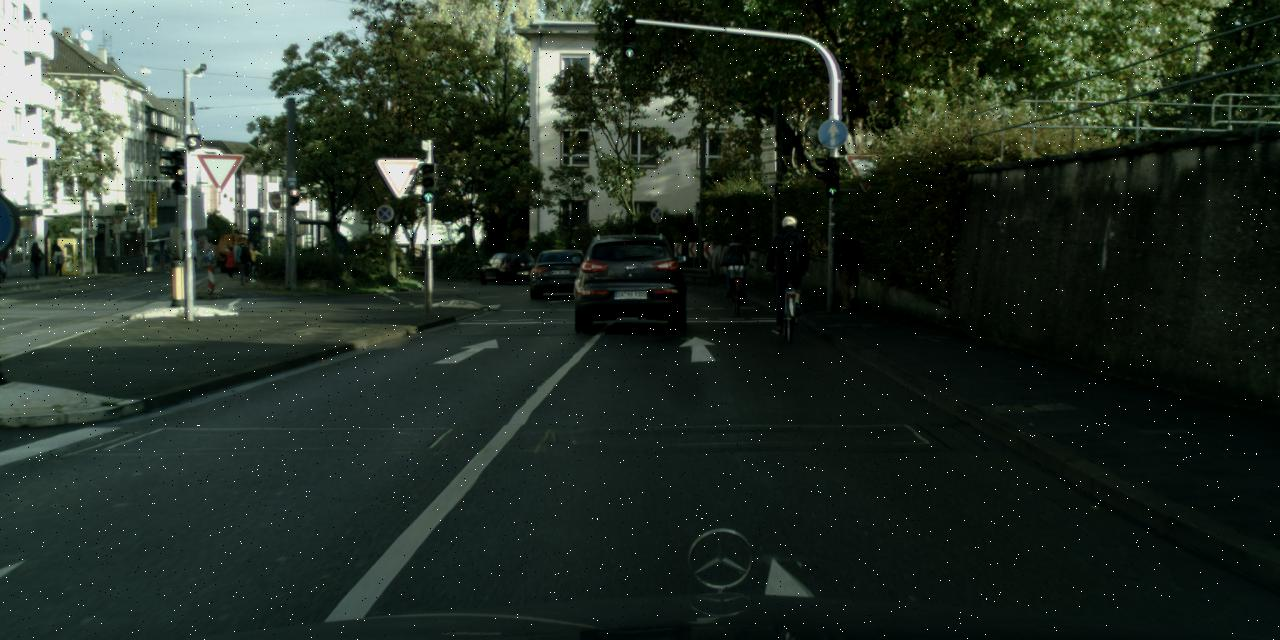ped: (766, 215, 810, 324), (830, 228, 862, 308), (723, 234, 749, 300), (231, 236, 251, 283), (241, 241, 257, 281), (28, 241, 44, 278), (51, 244, 63, 275), (224, 246, 235, 276)
